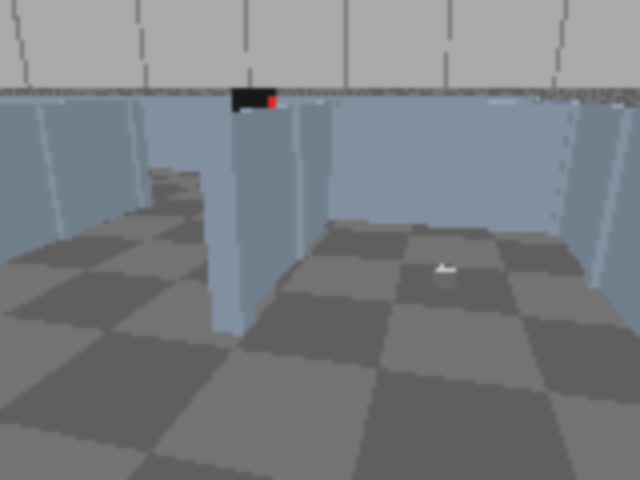puck: (433, 266, 457, 289)
